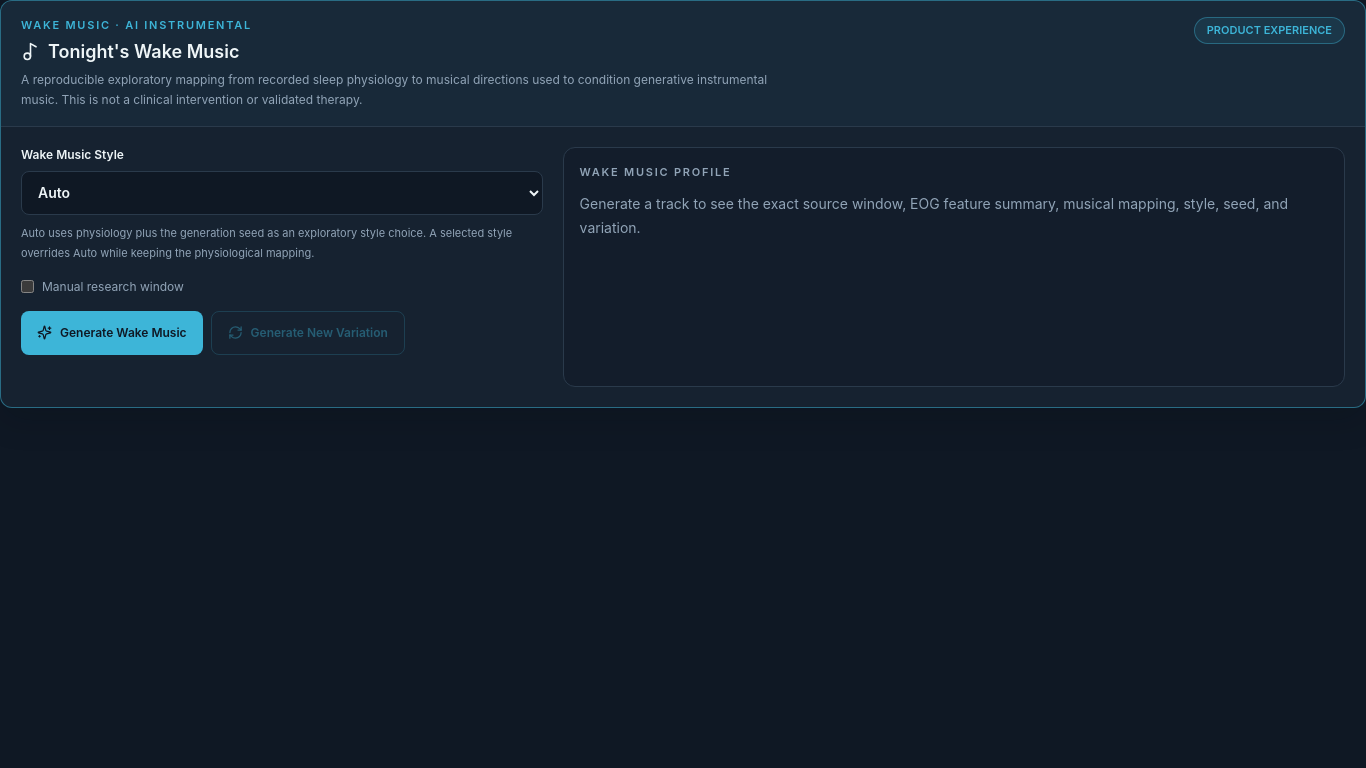
Test: Wake Music product panel › defaults to the Wake Version and allows explicit Full Track playback
Step 1. Click the button "Generate Wake Music" → [112, 332], box left=21, top=310, right=203, bottom=354
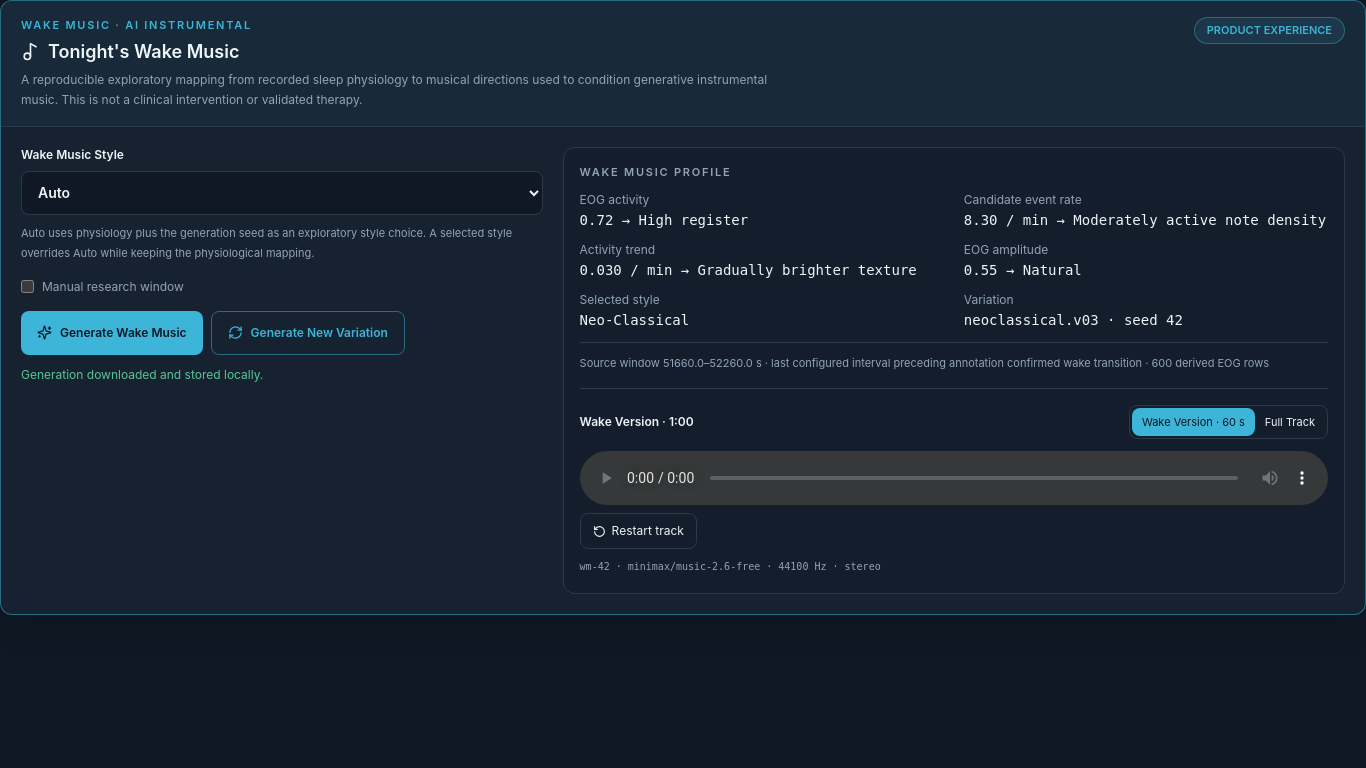
Step 2. Click the button "Full Track" → [1290, 422], box left=1255, top=408, right=1325, bottom=436
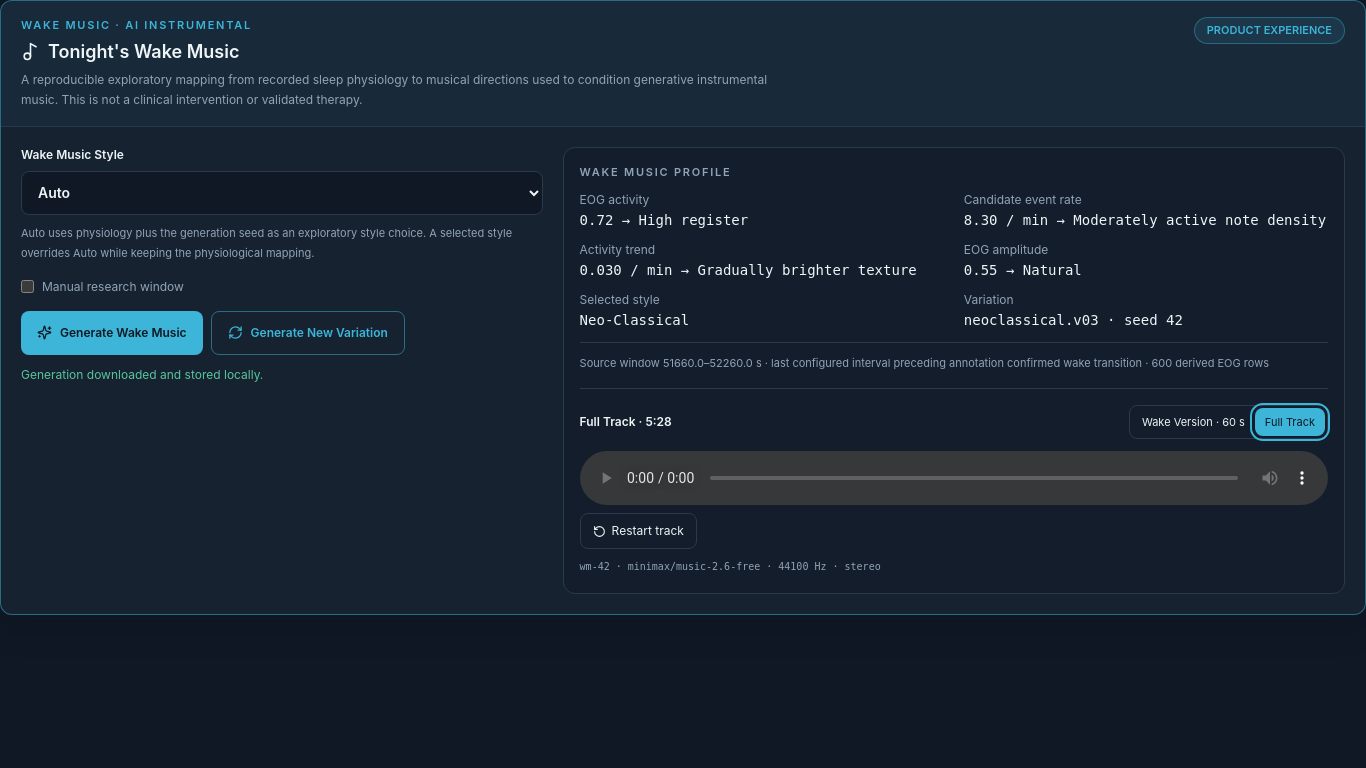
Expected: the text "Full Track · 5:28" is shown, left=580, top=414, right=672, bottom=430
